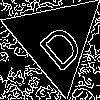D: (30, 15, 86, 74)
